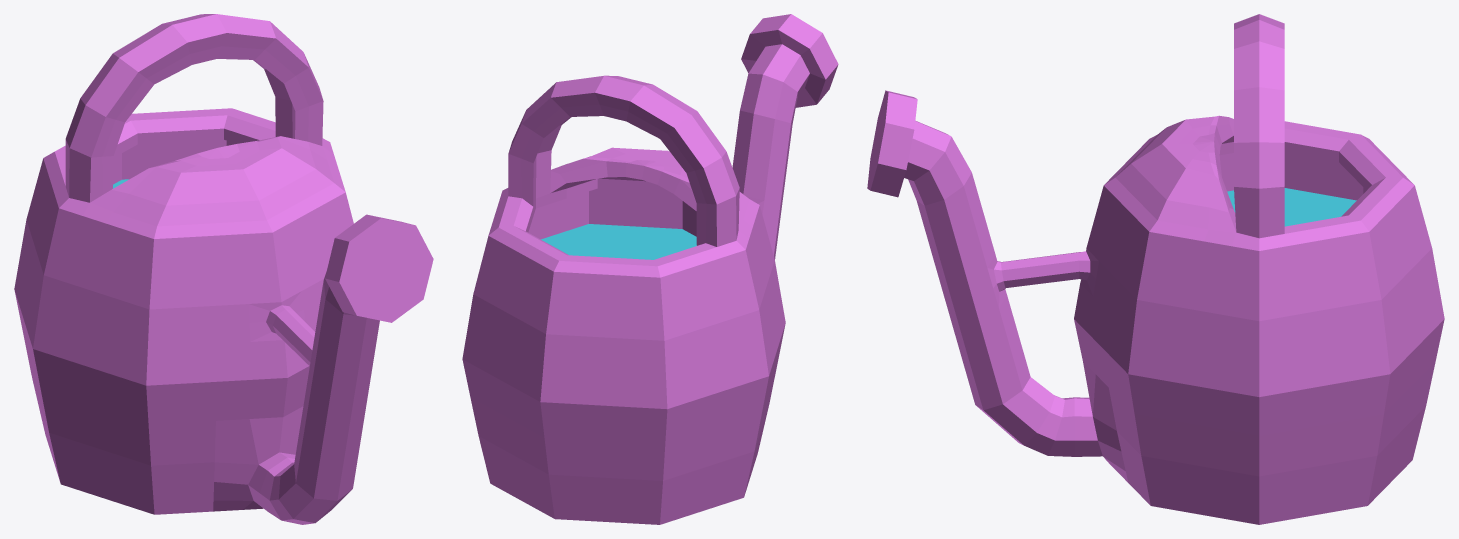
The model's file is watering_can_pink_flat.fbx.
3 views of the same model, side by side, from view 1: azimuth 30°, elevation 25°; view 2: azimuth 150°, elevation 25°; view 3: azimuth 270°, elevation 25° (orthographic). The views are drawn at different scales.
Visible parts, largest first — view 1: watering_can_pink; view 2: watering_can_pink; view 3: watering_can_pink.
Boxes of the visible parts, x1=… form: watering_can_pink: x1=14, y1=14, x2=433, y2=524; watering_can_pink: x1=462, y1=14, x2=838, y2=524; watering_can_pink: x1=867, y1=14, x2=1444, y2=524.
Size of the model in its own units: 36.25 by 46.34 by 56.45.
